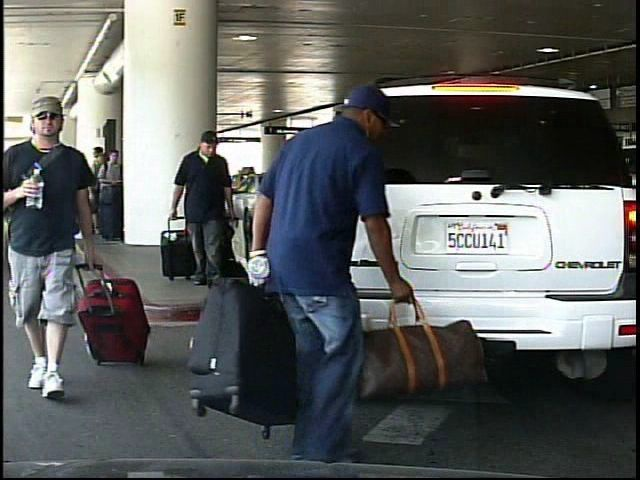person: (244, 76, 410, 469), (8, 97, 108, 403), (172, 129, 239, 282)
